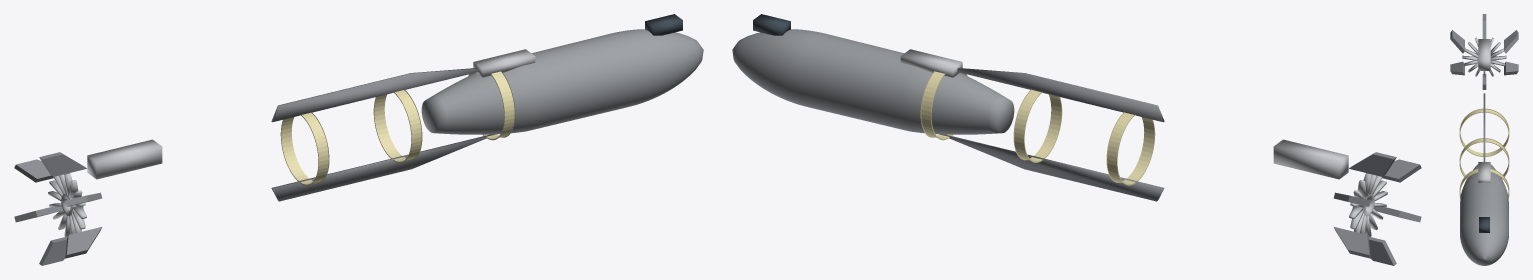
The model's file is FR_TORP_F17_LOD0.fbx.
The picture shows the model from 3 angles, left to right: view 1: azimuth 30°, elevation 25°; view 2: azimuth 150°, elevation 25°; view 3: azimuth 270°, elevation 25°; orthographic projection. The views are drawn at different scales.
Visible parts, largest first — view 1: WPN_FR_TORP_F17_LOD0_Body, WPN_FR_TORP_F17_LOD0_Detail, WPN_FR_TORP_F17_LOD0_Marking, WPN_FR_TORP_F17_LOD0_Fins, WPN_FR_TORP_F17_LOD0_Propulsor, WPN_FR_TORP_F17_LOD0_Seeker; view 2: WPN_FR_TORP_F17_LOD0_Body, WPN_FR_TORP_F17_LOD0_Detail, WPN_FR_TORP_F17_LOD0_Marking, WPN_FR_TORP_F17_LOD0_Fins, WPN_FR_TORP_F17_LOD0_Propulsor, WPN_FR_TORP_F17_LOD0_Seeker; view 3: WPN_FR_TORP_F17_LOD0_Body, WPN_FR_TORP_F17_LOD0_Marking, WPN_FR_TORP_F17_LOD0_Fins, WPN_FR_TORP_F17_LOD0_Detail, WPN_FR_TORP_F17_LOD0_Propulsor, WPN_FR_TORP_F17_LOD0_Seeker.
Part boxes in pixels (x1,y1,x2,y2): WPN_FR_TORP_F17_LOD0_Body: [421, 29, 703, 134]; WPN_FR_TORP_F17_LOD0_Detail: [87, 49, 535, 201]; WPN_FR_TORP_F17_LOD0_Marking: [280, 71, 515, 185]; WPN_FR_TORP_F17_LOD0_Fins: [14, 152, 102, 265]; WPN_FR_TORP_F17_LOD0_Propulsor: [48, 173, 86, 236]; WPN_FR_TORP_F17_LOD0_Seeker: [645, 14, 682, 35]; WPN_FR_TORP_F17_LOD0_Body: [732, 29, 1014, 134]; WPN_FR_TORP_F17_LOD0_Detail: [900, 49, 1348, 201]; WPN_FR_TORP_F17_LOD0_Marking: [920, 71, 1155, 185]; WPN_FR_TORP_F17_LOD0_Fins: [1333, 152, 1421, 265]; WPN_FR_TORP_F17_LOD0_Propulsor: [1349, 173, 1387, 236]; WPN_FR_TORP_F17_LOD0_Seeker: [753, 14, 790, 35]; WPN_FR_TORP_F17_LOD0_Body: [1460, 164, 1508, 265]; WPN_FR_TORP_F17_LOD0_Marking: [1459, 108, 1509, 197]; WPN_FR_TORP_F17_LOD0_Fins: [1450, 14, 1518, 89]; WPN_FR_TORP_F17_LOD0_Detail: [1478, 39, 1490, 182]; WPN_FR_TORP_F17_LOD0_Propulsor: [1462, 37, 1506, 77]; WPN_FR_TORP_F17_LOD0_Seeker: [1479, 217, 1489, 232].
Bounding box in the file's own units: 5.39 × 0.7386 × 0.8282.
